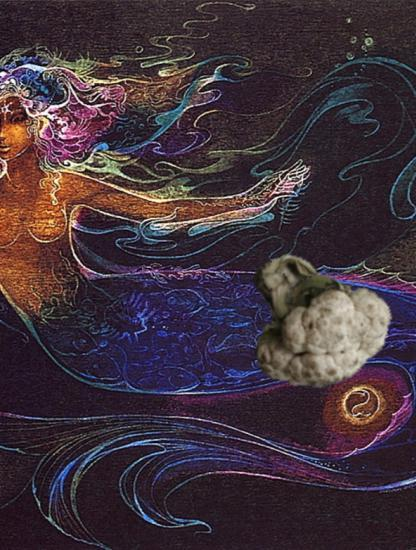Cauliflower: (235, 246, 384, 395)
